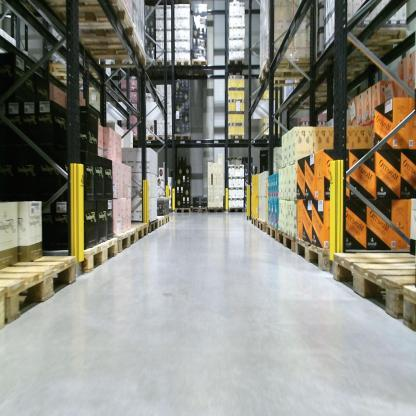pallets: (0, 0, 153, 81), (330, 236, 416, 329), (0, 255, 77, 329), (79, 215, 170, 274), (246, 214, 330, 273), (169, 200, 249, 218), (151, 56, 213, 71)
